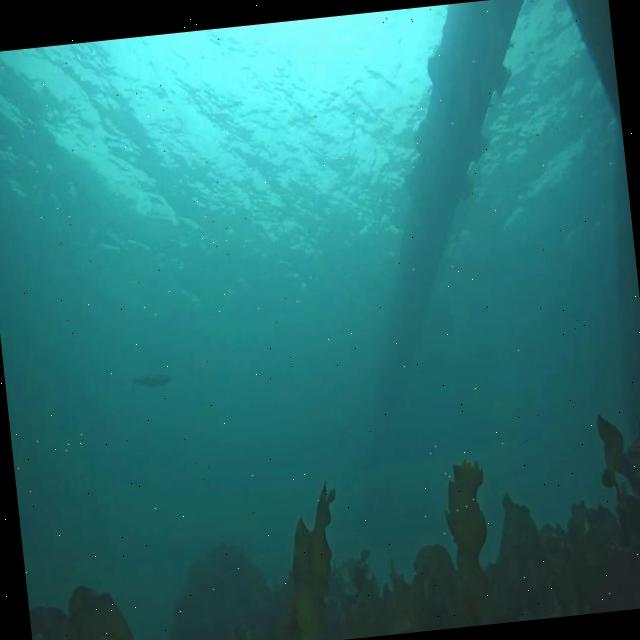fish: (128, 367, 174, 393)
